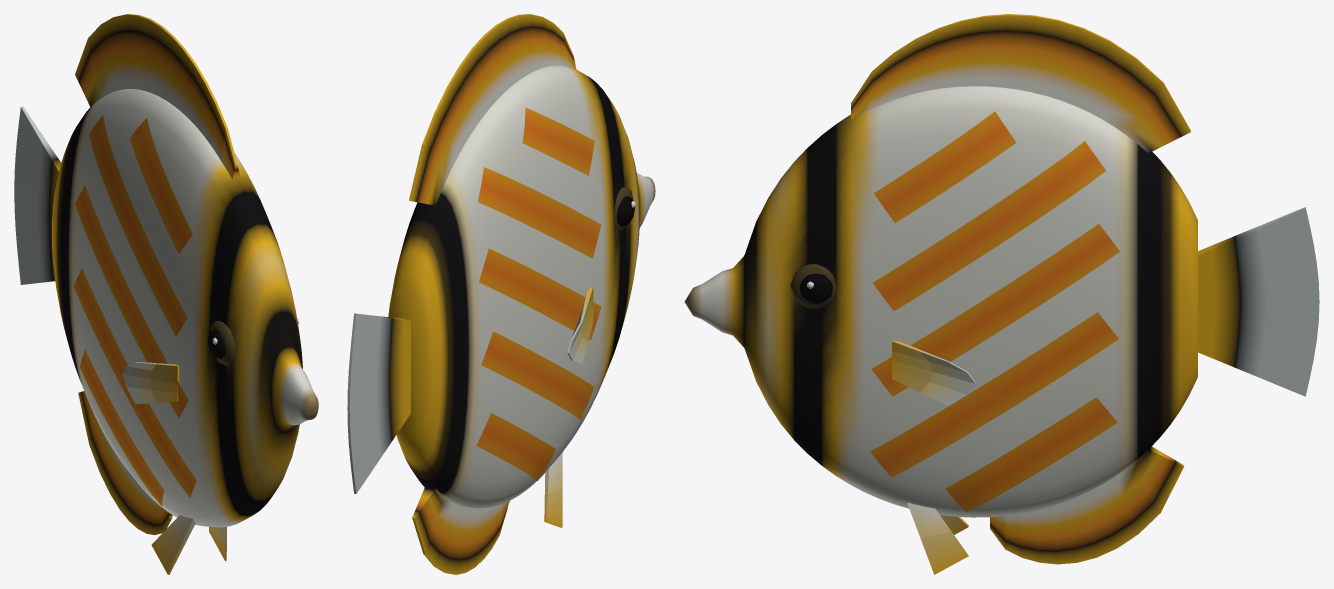
Rendered from OrnateButterflyfish.fbx.
3 renders of one model, left to right at view 1: azimuth 30°, elevation 25°; view 2: azimuth 150°, elevation 25°; view 3: azimuth 270°, elevation 25°, orthographic. The views are drawn at different scales.
Visible parts, largest first — view 1: OrnateButterflyfish; view 2: OrnateButterflyfish; view 3: OrnateButterflyfish.
Part boxes in pixels (x1,y1,x2,y2): OrnateButterflyfish: (14,14,318,574); OrnateButterflyfish: (347,14,655,574); OrnateButterflyfish: (684,14,1319,574).
Size of the model in its own units: 0.1954 by 0.8732 by 0.915.
